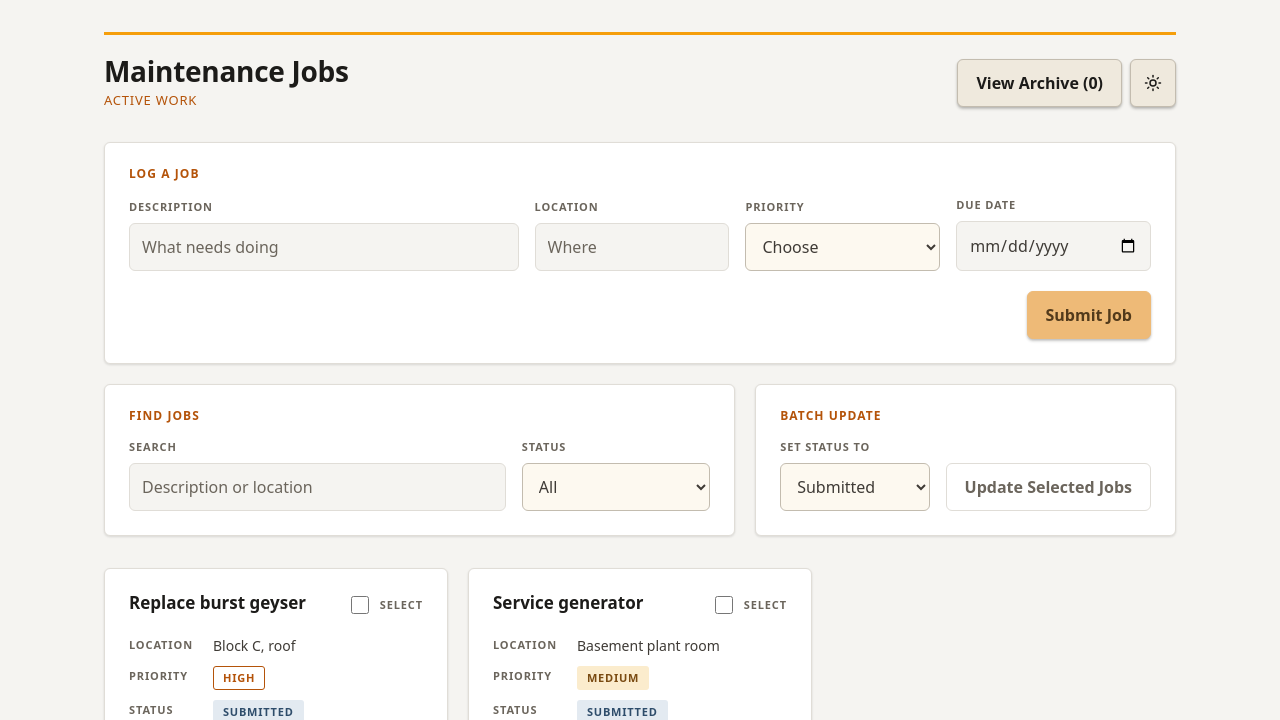
Test: batch selection › brings the selection back when the search is cleared
Expected: the heading "Replace burst geyser" is shown, [129, 593, 321, 613]
Click the checkbox labelled "Select" next to "Replace burst geyser" at (360, 605), box [351, 596, 369, 614]
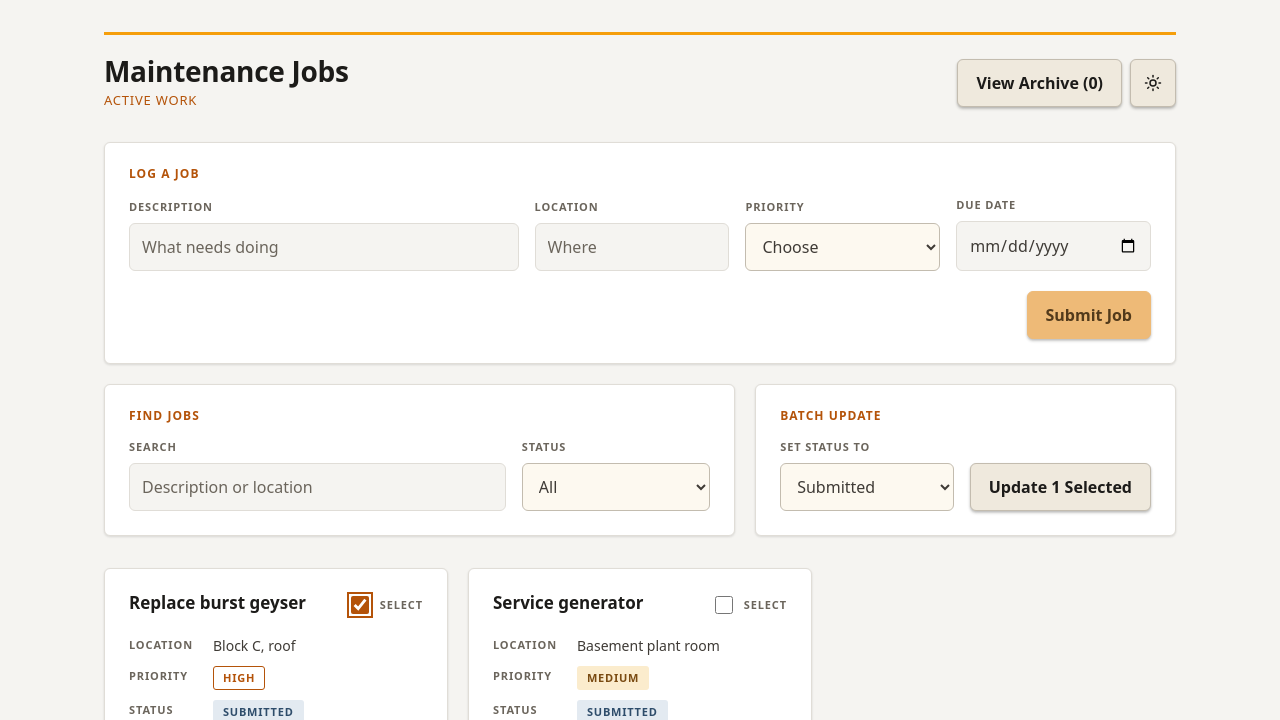
Type "generator" into the search field labelled "Search" at (317, 487), box [129, 463, 506, 511]
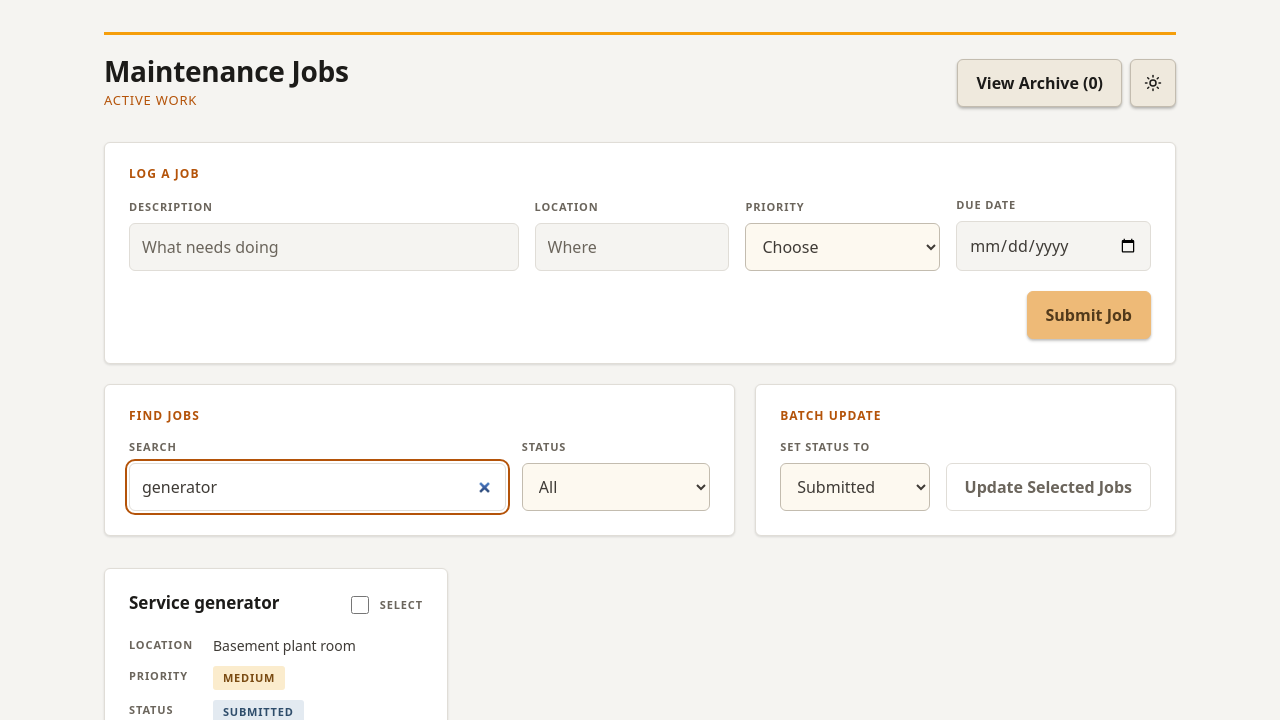
Clear the search field labelled "Search" at (317, 487), box [129, 463, 506, 511]
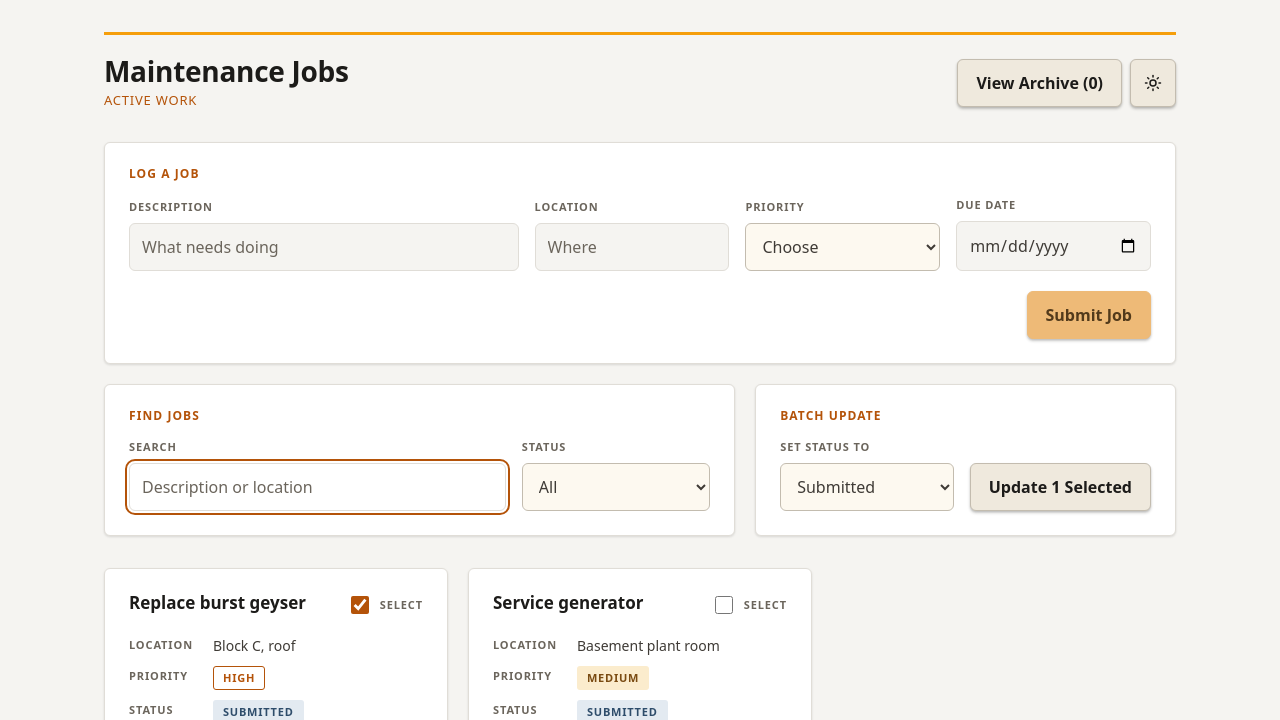
Expected: the button "Update 1 Selected" is shown, [970, 463, 1151, 511]
